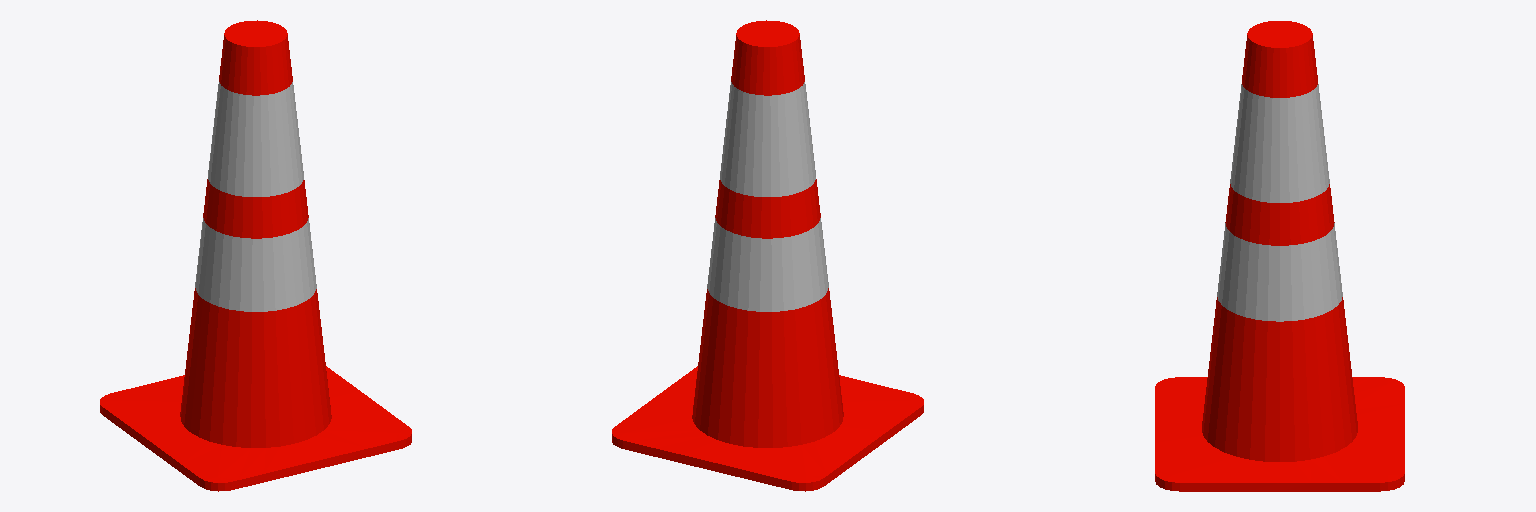
URDF robot description (taffic_cone):
<robot name="taffic_cone" version="1.0">
  <link name="base_link">
    <collision name="traffic_cone_collision">
      <origin rpy="0.00000 0.00000 0.00000" xyz="0.00000 -0.00000 0.10732"/>
      <geometry>
        <cylinder radius="0.21171" length="0.75176"/>
      </geometry>
    </collision>
    <inertial>
      <inertia ixx="0.00583" ixy="0.00000" ixz="0.00000" iyy="0.00583" iyz="0.00000" izz="0.00224"/>
      <origin rpy="0.00000 0.00000 0.00000" xyz="0.00000 -0.00000 0.10732"/>
      <mass value="0.10000"/>
    </inertial>
    <visual name="traffic_cone">
      <!-- <material name="Orange"/> -->
      <origin rpy="0.00000 0.00000 0.00000" xyz="0.00000 0.00000 -0.00000"/>
      <geometry>
        <mesh filename="package://taffic_cone_description/meshes/dae/Cylinder.dae" scale="1 1 1"/>
      </geometry>
    </visual>
  </link>
  <!-- <material name="Orange">
    <color rgba="1.00000 0.05490 0.00000 1.00000"/>
  </material> -->
</robot>

--- Render facts (derived) ---
3 views of the same robot in one strip: view 1: azimuth 30°, elevation 25°; view 2: azimuth 150°, elevation 25°; view 3: azimuth 270°, elevation 25° (orthographic).
Model taffic_cone with 1 links and 0 joints (none), rooted at base_link, posed every joint at zero.
Visible links, largest first — view 1: base_link; view 2: base_link; view 3: base_link.
Link boxes in pixels (x1=…): base_link: x1=100, y1=20, x2=411, y2=491; base_link: x1=612, y1=20, x2=923, y2=491; base_link: x1=1155, y1=21, x2=1404, y2=491.
Bounding box of the posed robot: 0.42 × 0.42 × 0.75 m (x, y, z).
Meshes: 1 distinct files referenced, 1 mesh visuals loaded (1 Collada DAE).
